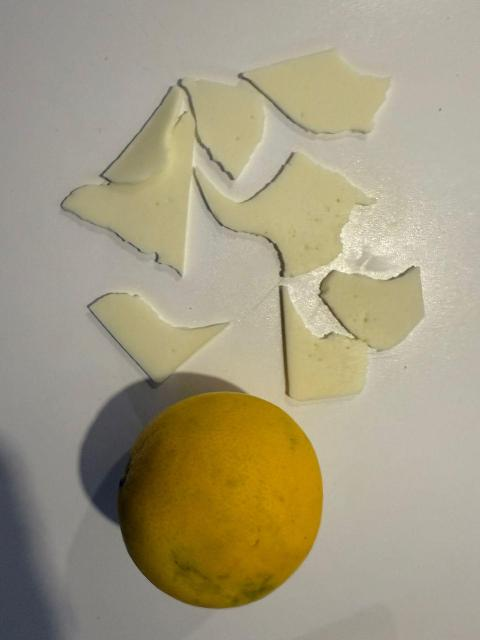Organik: (127, 388, 320, 593), (187, 161, 377, 264), (249, 47, 393, 124), (317, 252, 428, 347), (89, 297, 232, 368), (267, 292, 365, 395), (96, 85, 188, 189), (172, 75, 272, 169)
